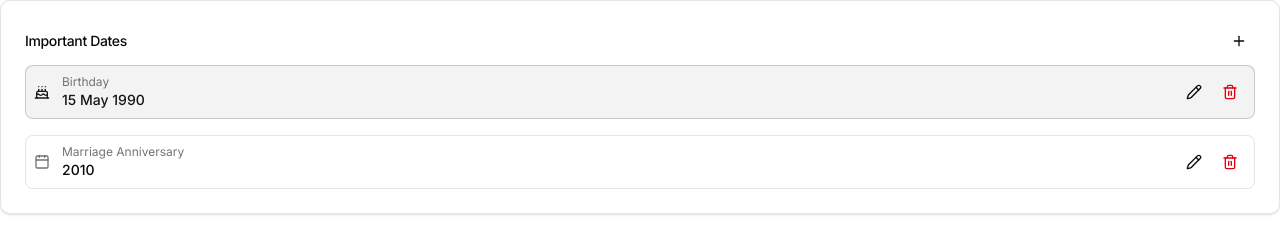
Test case: ImportantDatesList › opens the inline editor prefilled from the row being edited
Click the button named "Edit birthday": (1194,92) [1178,76,1210,108]
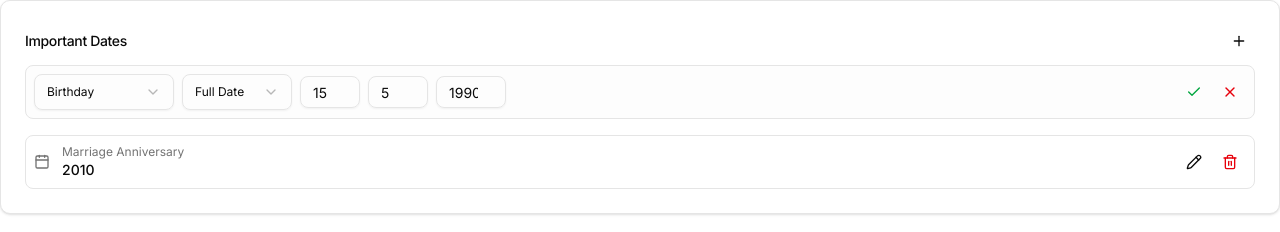
Check: the number field showing "1990" is shown, box [436,76,506,108]
Check: the number field showing "15" is shown, box [300,76,360,108]
Check: the number field showing "5" is shown, box [368,76,428,108]
